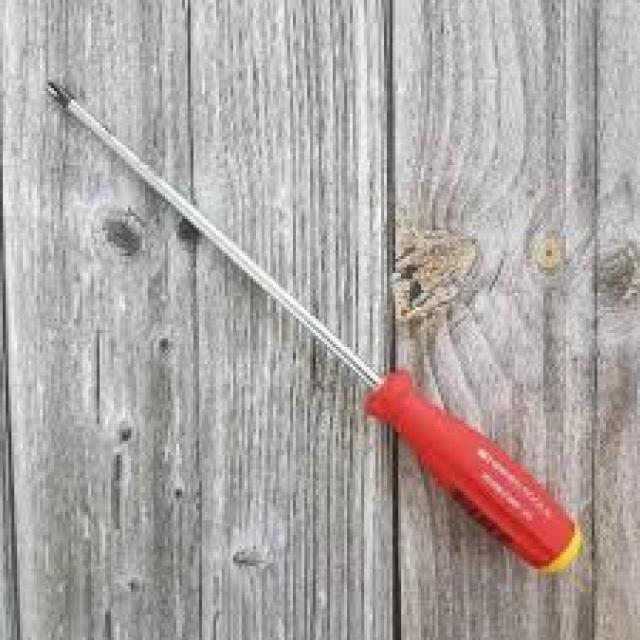screwdriver: (41, 78, 590, 579)
